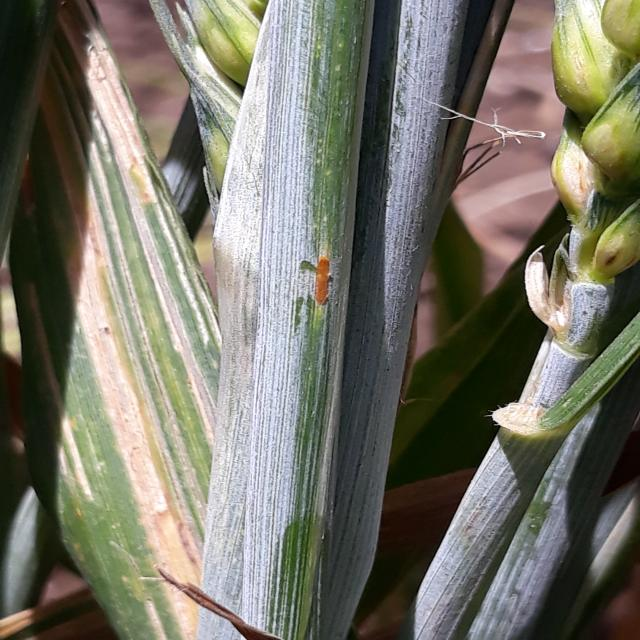black_stem_rust: (0, 57, 428, 640)
